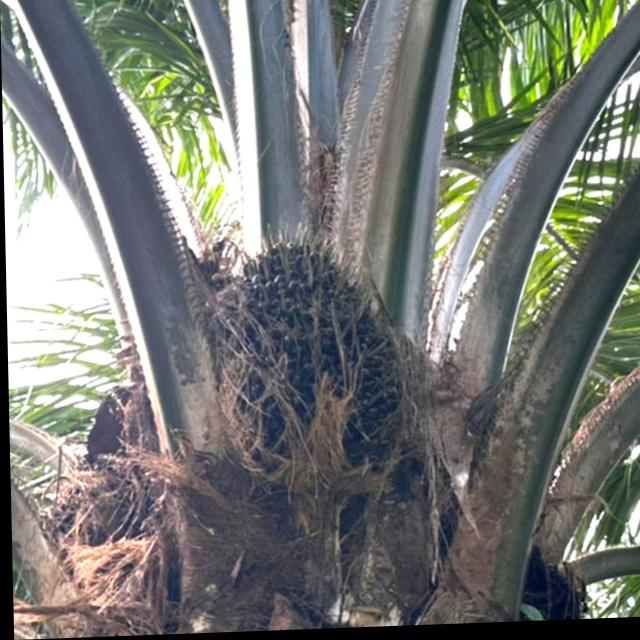almost: (201, 212, 421, 480)
